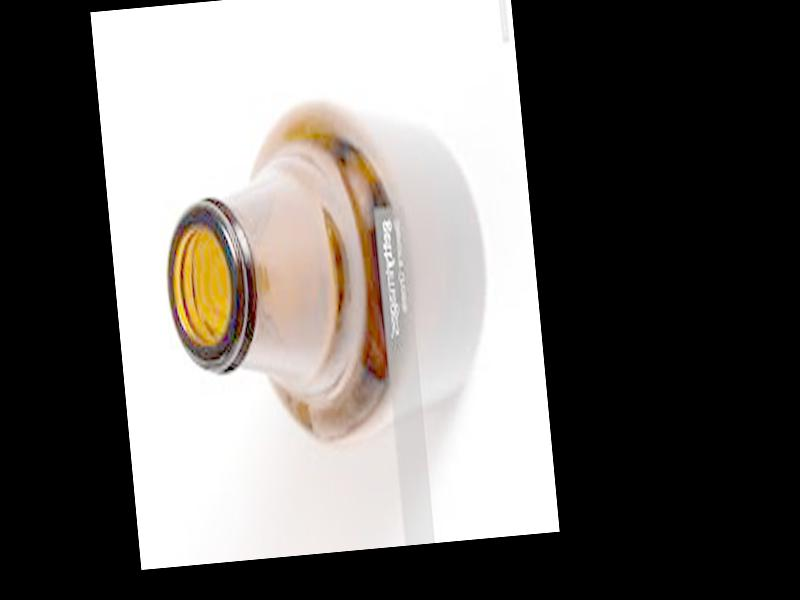Beer: (150, 88, 501, 462)
